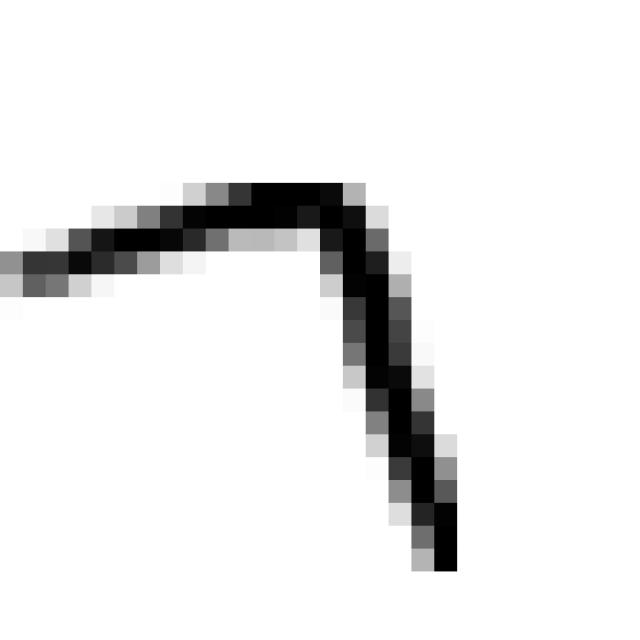6 -six-: (0, 137, 457, 572)
